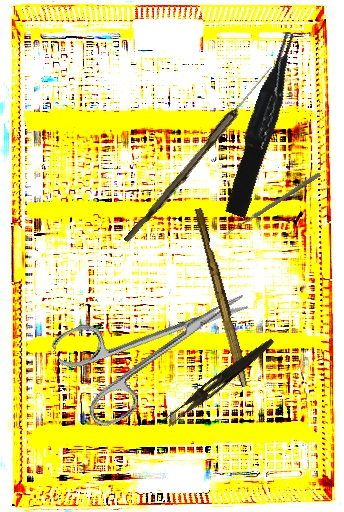Dressing Forceps: (162, 332, 277, 431)
Iris Scissors: (49, 257, 269, 434)
Scalpel Handle: (190, 207, 254, 388)
Surgical Spoon: (123, 62, 276, 247), (222, 171, 322, 238)
Tissue Forceps: (217, 30, 310, 219)
